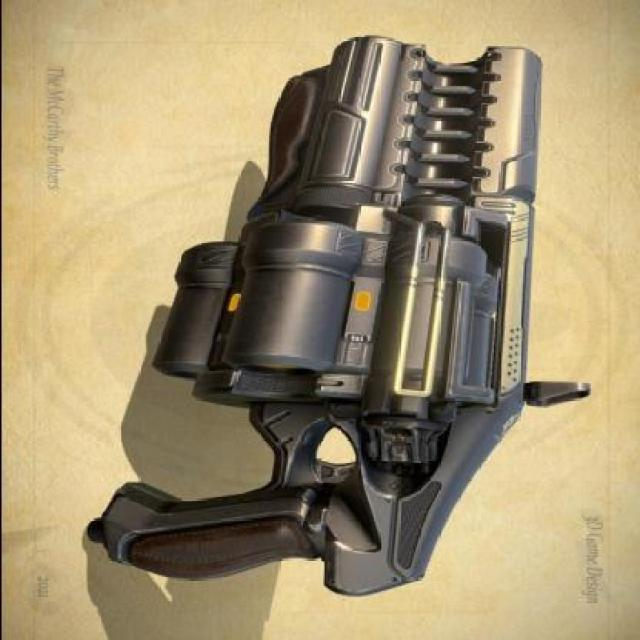weapon: (85, 33, 590, 596)
